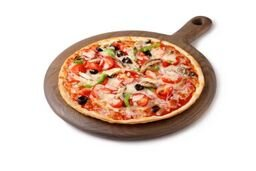curry: (10, 12, 255, 169)
sandwich: (58, 36, 202, 124)
